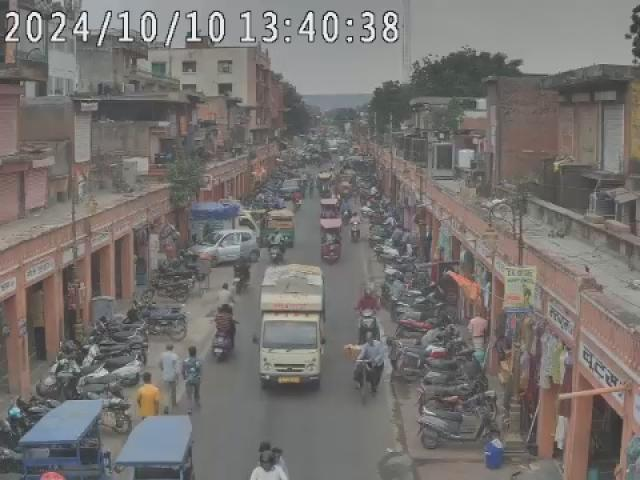auto: (12, 399, 107, 480), (112, 414, 200, 480), (317, 216, 343, 264)
bicycle-rider: (349, 329, 387, 400)
car: (186, 227, 262, 272)
helmet: (256, 452, 278, 476), (362, 287, 377, 303)
lorry: (255, 262, 328, 394)
motorbike: (137, 270, 196, 300), (397, 339, 463, 365), (394, 310, 456, 332)
motorbike-rider: (242, 440, 294, 478)
person: (156, 340, 182, 414), (180, 344, 207, 410), (134, 371, 160, 417)
scooty: (415, 398, 505, 452), (415, 369, 483, 398), (80, 344, 136, 378)
scooty-rider: (208, 302, 239, 364), (352, 282, 384, 340)
